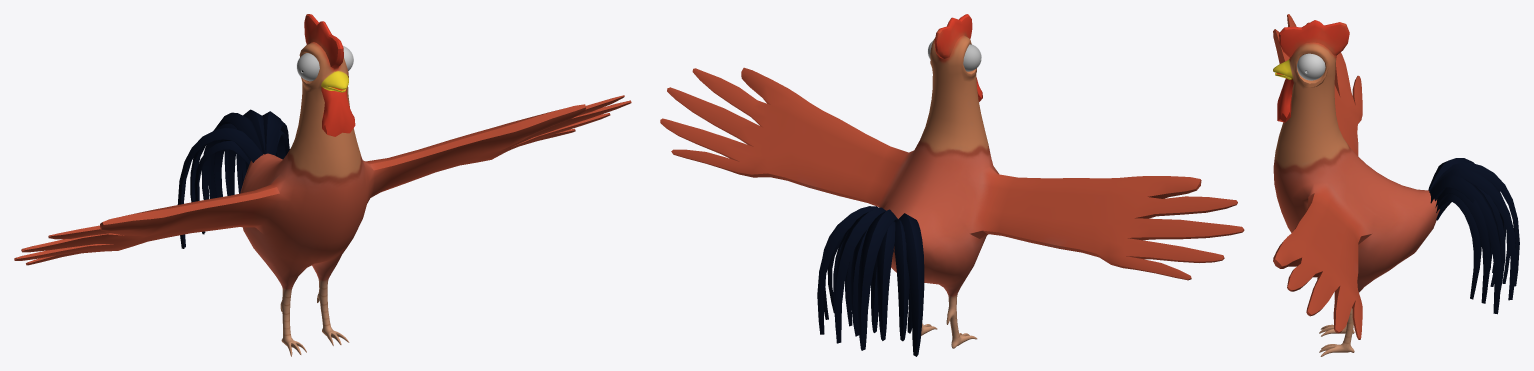
Rendered from chicken.fbx.
3 views of the same model, side by side, from view 1: azimuth 30°, elevation 25°; view 2: azimuth 150°, elevation 25°; view 3: azimuth 270°, elevation 25° (orthographic). The views are drawn at different scales.
Visible parts, largest first — view 1: Object008, Plane033, Sphere010; view 2: Object008, Plane033; view 3: Object008, Plane033, Sphere013.
Boxes of the visible parts, bbox=[...] form: Object008: bbox=[14, 14, 631, 356]; Plane033: bbox=[177, 109, 289, 248]; Sphere010: bbox=[297, 53, 319, 81]; Object008: bbox=[660, 14, 1244, 348]; Plane033: bbox=[817, 206, 924, 356]; Object008: bbox=[1273, 14, 1439, 356]; Plane033: bbox=[1428, 158, 1519, 314]; Sphere013: bbox=[1297, 53, 1325, 80].
Bounding box in the file's own units: 303 × 109 × 157.
